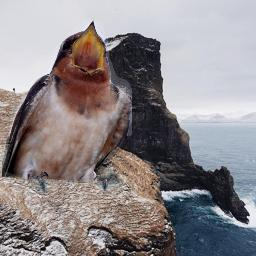Swallow: (2, 20, 132, 193)
